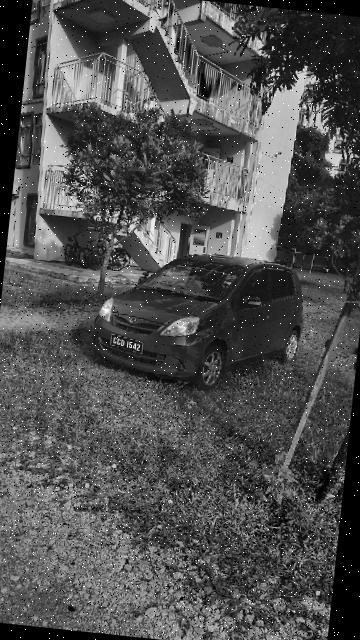License_Plate: (107, 332, 146, 356)
car: (84, 239, 313, 399)
